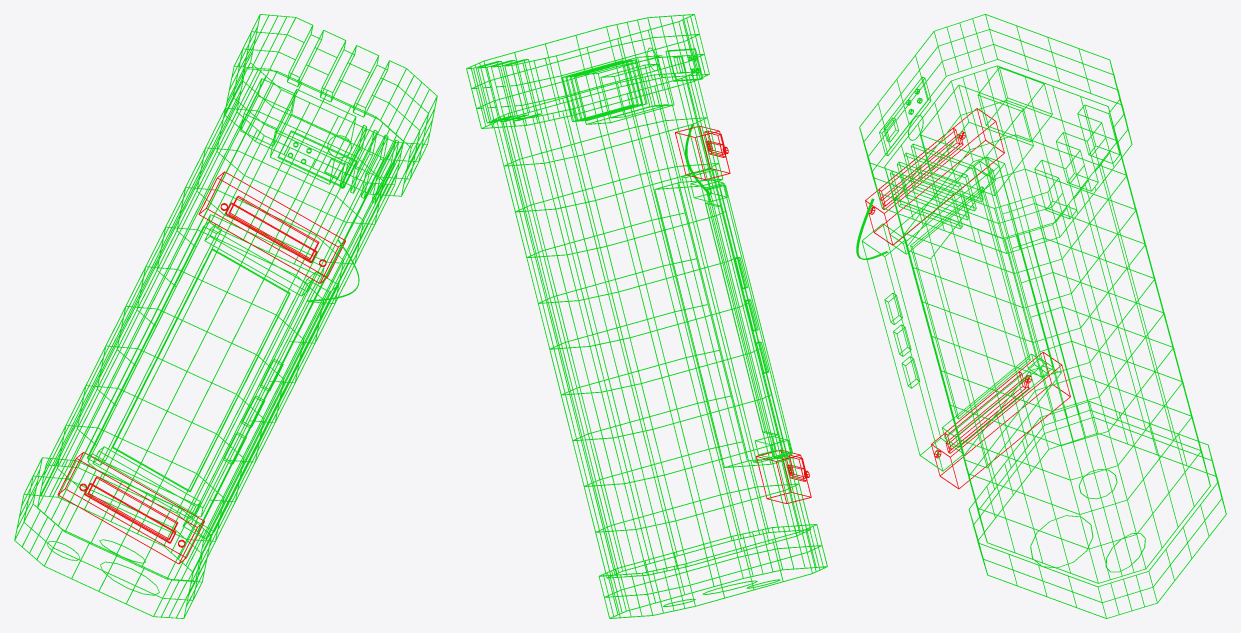
Rendered from long-range-transmitter-highlight-data-cartridge-drives.glb.
3 views of the same model, side by side, from view 1: azimuth 30°, elevation 25°; view 2: azimuth 150°, elevation 25°; view 3: azimuth 270°, elevation 25° (orthographic). The views are drawn at different scales.
Parts seen in each view (by area): view 1: chassis technical wire, data-cartridge-drives technical wire, data-encryption-device technical wire, audio-visual-console technical wire; view 2: chassis technical wire, data-encryption-device technical wire, data-cartridge-drives technical wire, audio-visual-console technical wire; view 3: chassis technical wire, data-encryption-device technical wire, data-cartridge-drives technical wire, audio-visual-console technical wire.
Part boxes in pixels (<box>): chassis technical wire: <box>14,14,437,618</box>; data-cartridge-drives technical wire: <box>57,171,345,564</box>; data-encryption-device technical wire: <box>240,78,398,203</box>; audio-visual-console technical wire: <box>112,248,290,492</box>; chassis technical wire: <box>466,14,827,618</box>; data-encryption-device technical wire: <box>561,47,703,124</box>; data-cartridge-drives technical wire: <box>675,125,811,503</box>; audio-visual-console technical wire: <box>705,202,778,435</box>; chassis technical wire: <box>856,14,1226,618</box>; data-encryption-device technical wire: <box>879,67,1052,229</box>; data-cartridge-drives technical wire: <box>865,108,1070,489</box>; audio-visual-console technical wire: <box>884,186,1030,419</box>.
Size of the model in its own units: 2.39 by 3.33 by 1.85.
